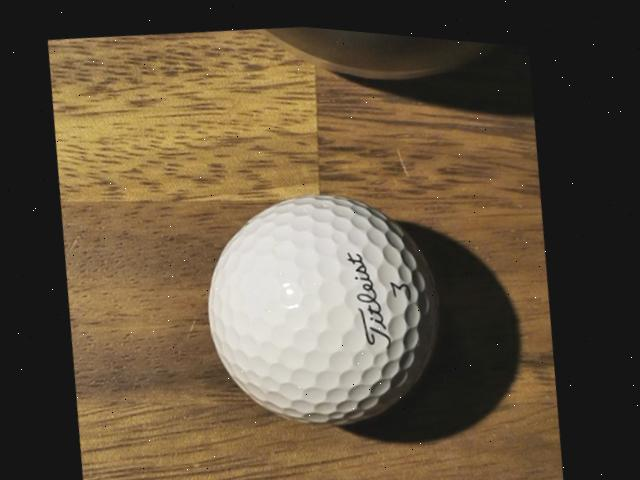Ball: (190, 168, 464, 445)
Titleist: (343, 242, 400, 349)
